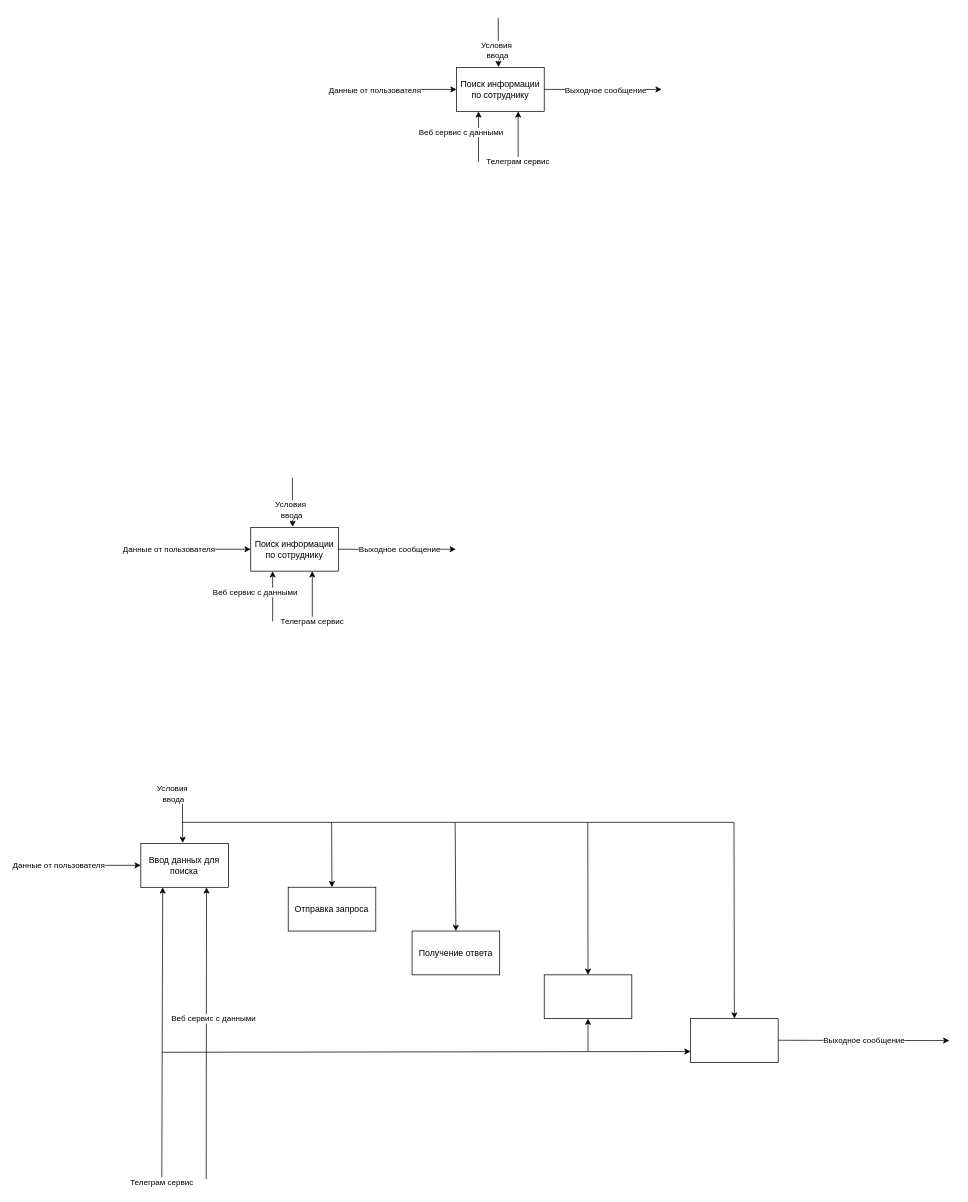
Image size: 968x1202. Some labels were removed from this diagram. Each missing label, with the box of its shape:
Вывод данных: (690, 1018, 778, 1062)
Обработка ответа: (543, 974, 632, 1019)
